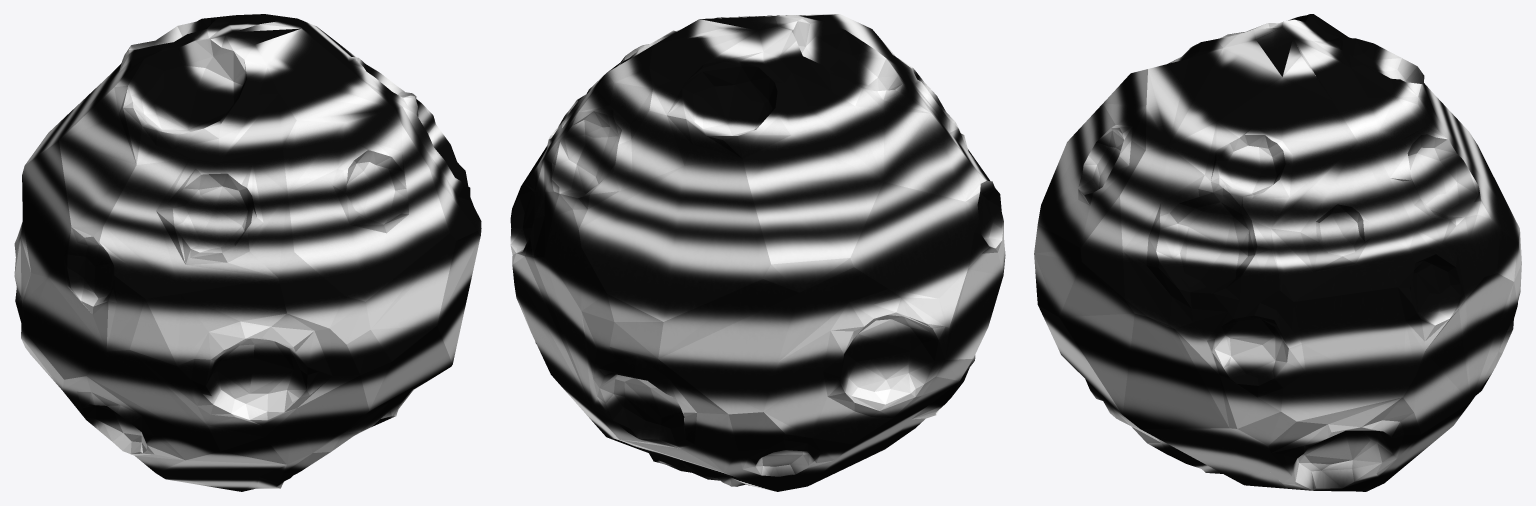
File: SM_Env_Asteroid_Round_04.fbx
The picture shows the model from 3 angles, left to right: view 1: azimuth 30°, elevation 25°; view 2: azimuth 150°, elevation 25°; view 3: azimuth 270°, elevation 25°; orthographic projection. The views are drawn at different scales.
Visible parts, largest first — view 1: SM_Env_Asteroid_Round_04_LOD0; view 2: SM_Env_Asteroid_Round_04_LOD0; view 3: SM_Env_Asteroid_Round_04_LOD0.
Boxes of the visible parts, x1=… form: SM_Env_Asteroid_Round_04_LOD0: x1=14, y1=14, x2=481, y2=491; SM_Env_Asteroid_Round_04_LOD0: x1=510, y1=14, x2=1005, y2=491; SM_Env_Asteroid_Round_04_LOD0: x1=1034, y1=14, x2=1521, y2=491.
Size of the model in its own units: 24821 by 24597 by 24977.
Materials: 1 (1 with a texture image).
